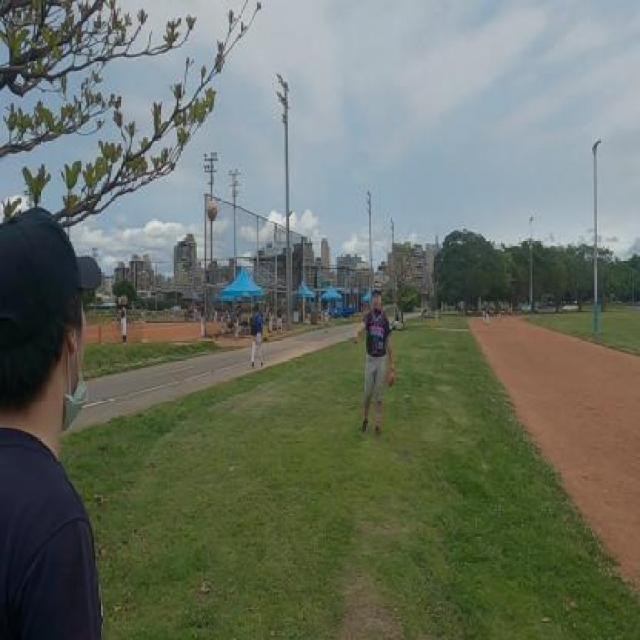baseball: (206, 198, 219, 222)
